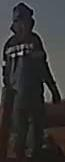gloves: (48, 84, 64, 106)
vest: (2, 34, 45, 102)
